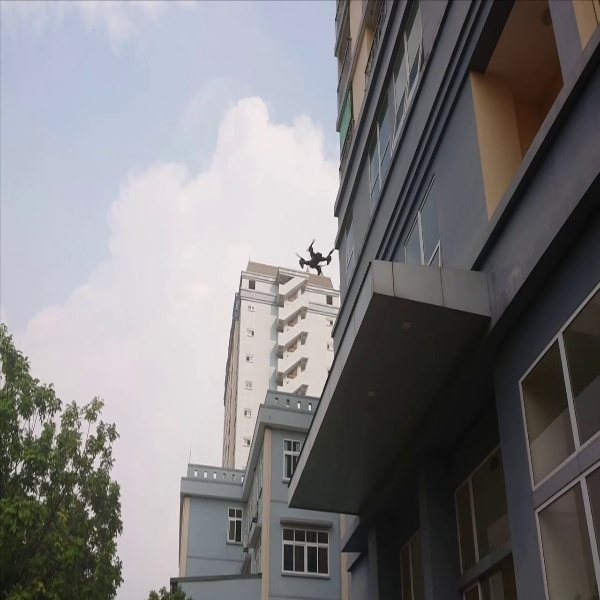drone: (291, 232, 339, 281)
